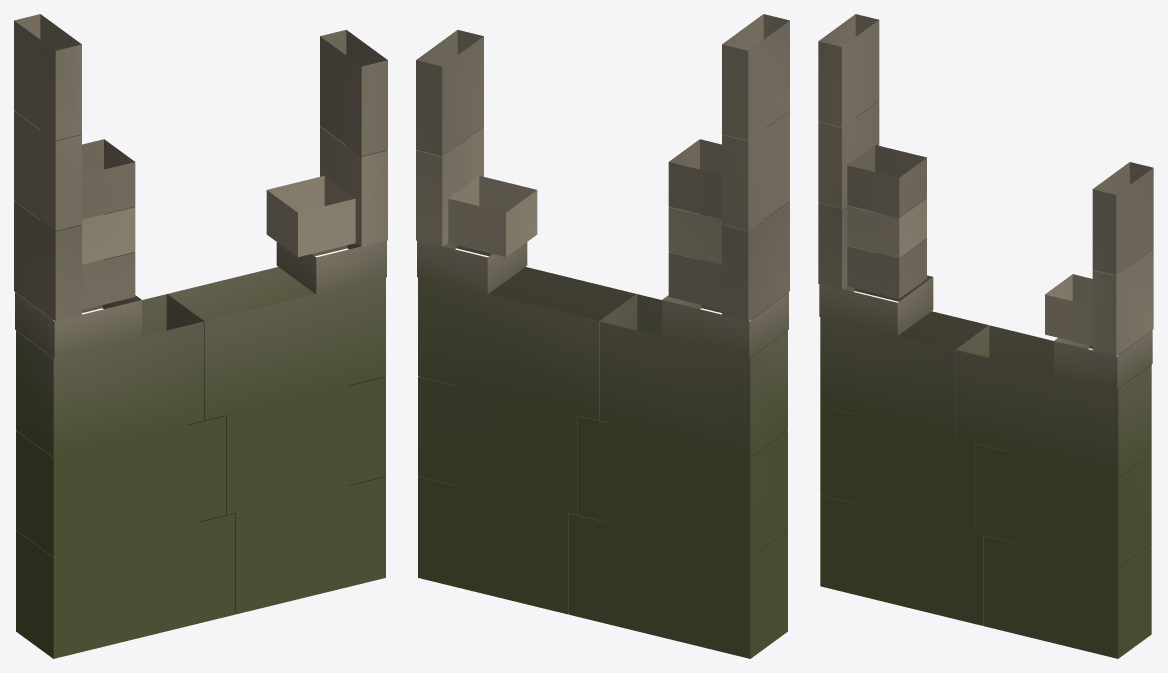
The model's file is sanctuary_wall_burst_mid.glb.
3 renders of one model, left to right at view 1: azimuth 30°, elevation 25°; view 2: azimuth 150°, elevation 25°; view 3: azimuth 330°, elevation 25°, orthographic. The views are drawn at different scales.
Parts seen in each view (by area): view 1: sanctuary_wall_burst_mid; view 2: sanctuary_wall_burst_mid; view 3: sanctuary_wall_burst_mid.
Part boxes in pixels (x1=…): sanctuary_wall_burst_mid: x1=14, y1=14, x2=387, y2=658; sanctuary_wall_burst_mid: x1=416, y1=14, x2=789, y2=658; sanctuary_wall_burst_mid: x1=818, y1=14, x2=1153, y2=658.
Size of the model in its own units: 18.47 by 32.37 by 4.
